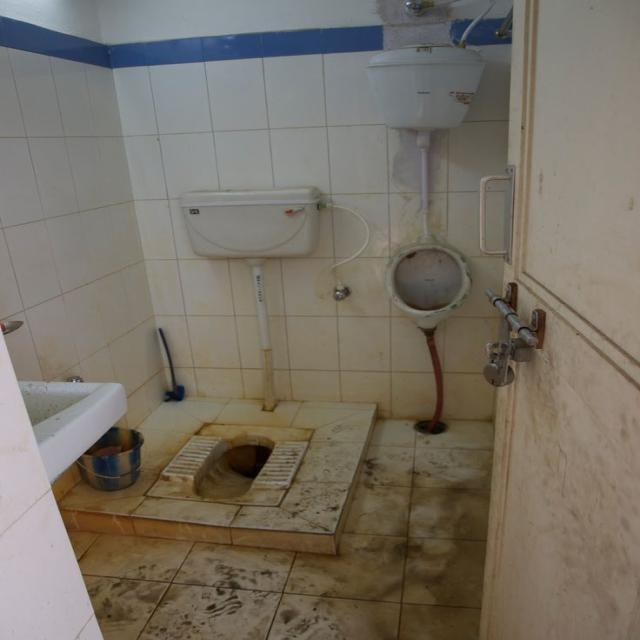dirty_floor: (2, 35, 510, 425), (58, 412, 493, 638), (58, 395, 379, 556), (155, 419, 316, 508), (384, 240, 472, 328), (192, 431, 277, 500), (222, 439, 273, 480)
